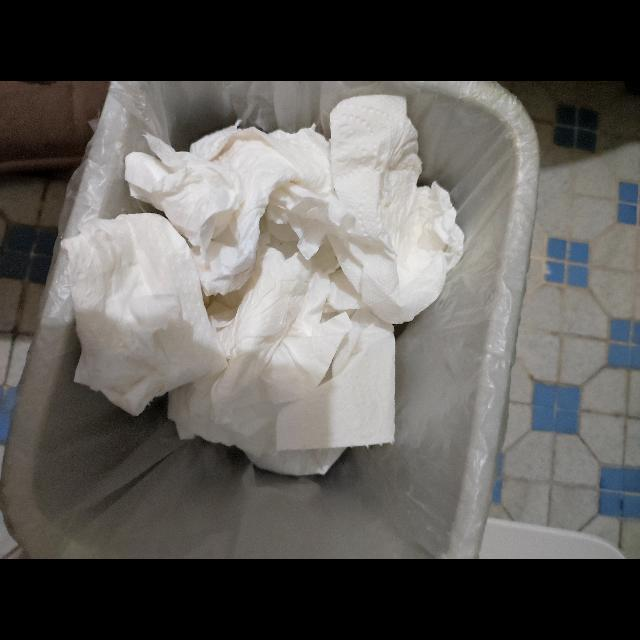paper: (124, 121, 338, 298), (207, 245, 363, 461), (64, 214, 227, 417), (326, 95, 464, 326), (266, 311, 399, 454), (265, 182, 340, 261)
